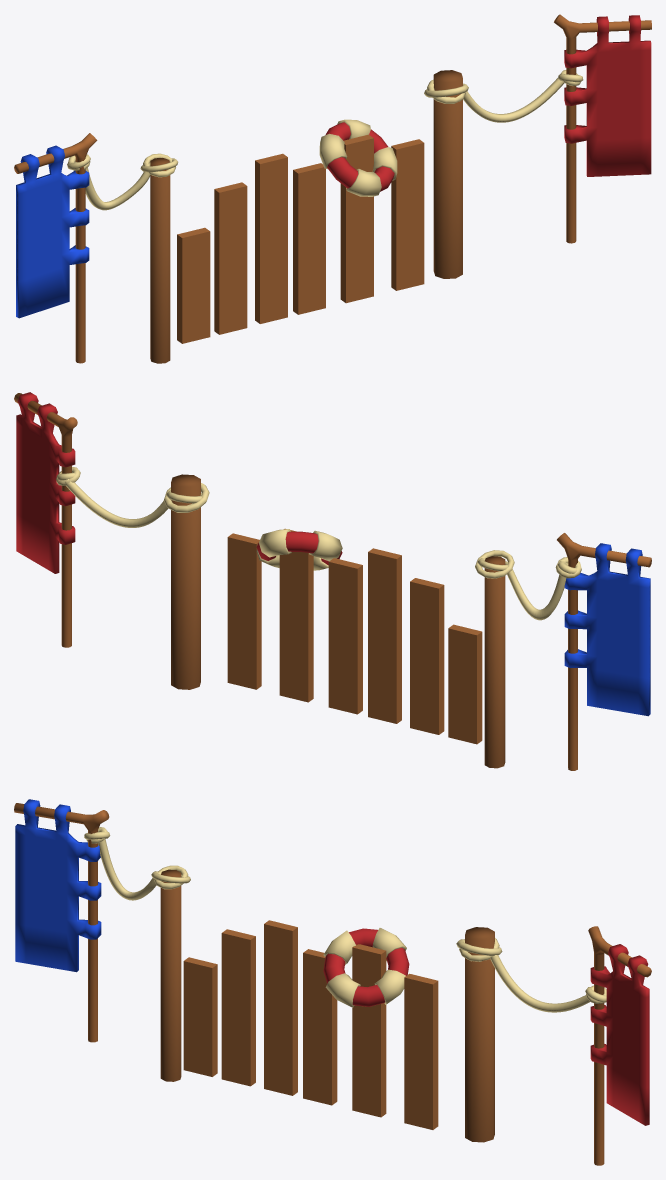
The model's file is Banderas y pared.fbx.
3 views of the same model, one above another, from view 1: azimuth 30°, elevation 25°; view 2: azimuth 150°, elevation 25°; view 3: azimuth 330°, elevation 25° (orthographic). The views are drawn at different scales.
Visible parts, largest first — view 1: Cube.005; view 2: Cube.005; view 3: Cube.005.
Part boxes in pixels (x1,y1,x2,y2): Cube.005: (14,14,651,363); Cube.005: (14,392,651,770); Cube.005: (14,799,651,1165).
Size of the model in its own units: 982 by 362 by 111.
